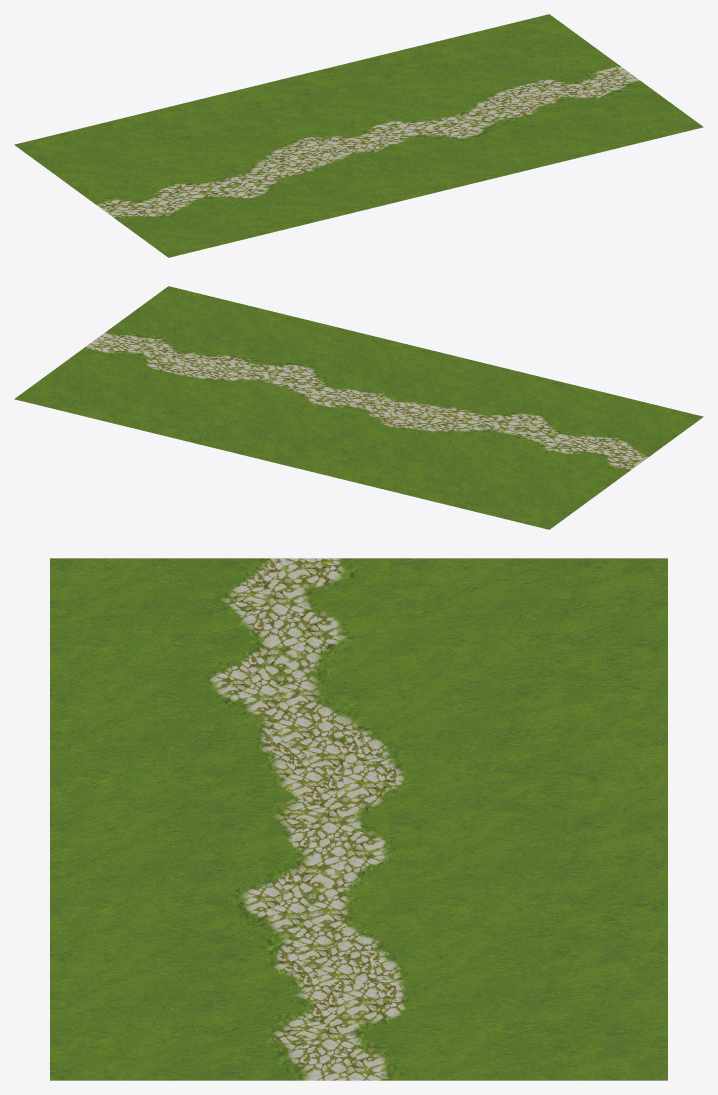
The model's file is Ground.fbx.
The picture shows the model from 3 angles, top to bottom: view 1: azimuth 30°, elevation 25°; view 2: azimuth 150°, elevation 25°; view 3: azimuth 270°, elevation 25°; orthographic projection. The views are drawn at different scales.
Visible parts, largest first — view 1: pPlane111; view 2: pPlane111; view 3: pPlane111.
Boxes of the visible parts, box(x1,y1,x2,y2) form: pPlane111: box(14, 14, 703, 257); pPlane111: box(14, 286, 703, 529); pPlane111: box(50, 558, 667, 1080).
Size of the model in its own units: 9016 by 1e-12 by 4508.
